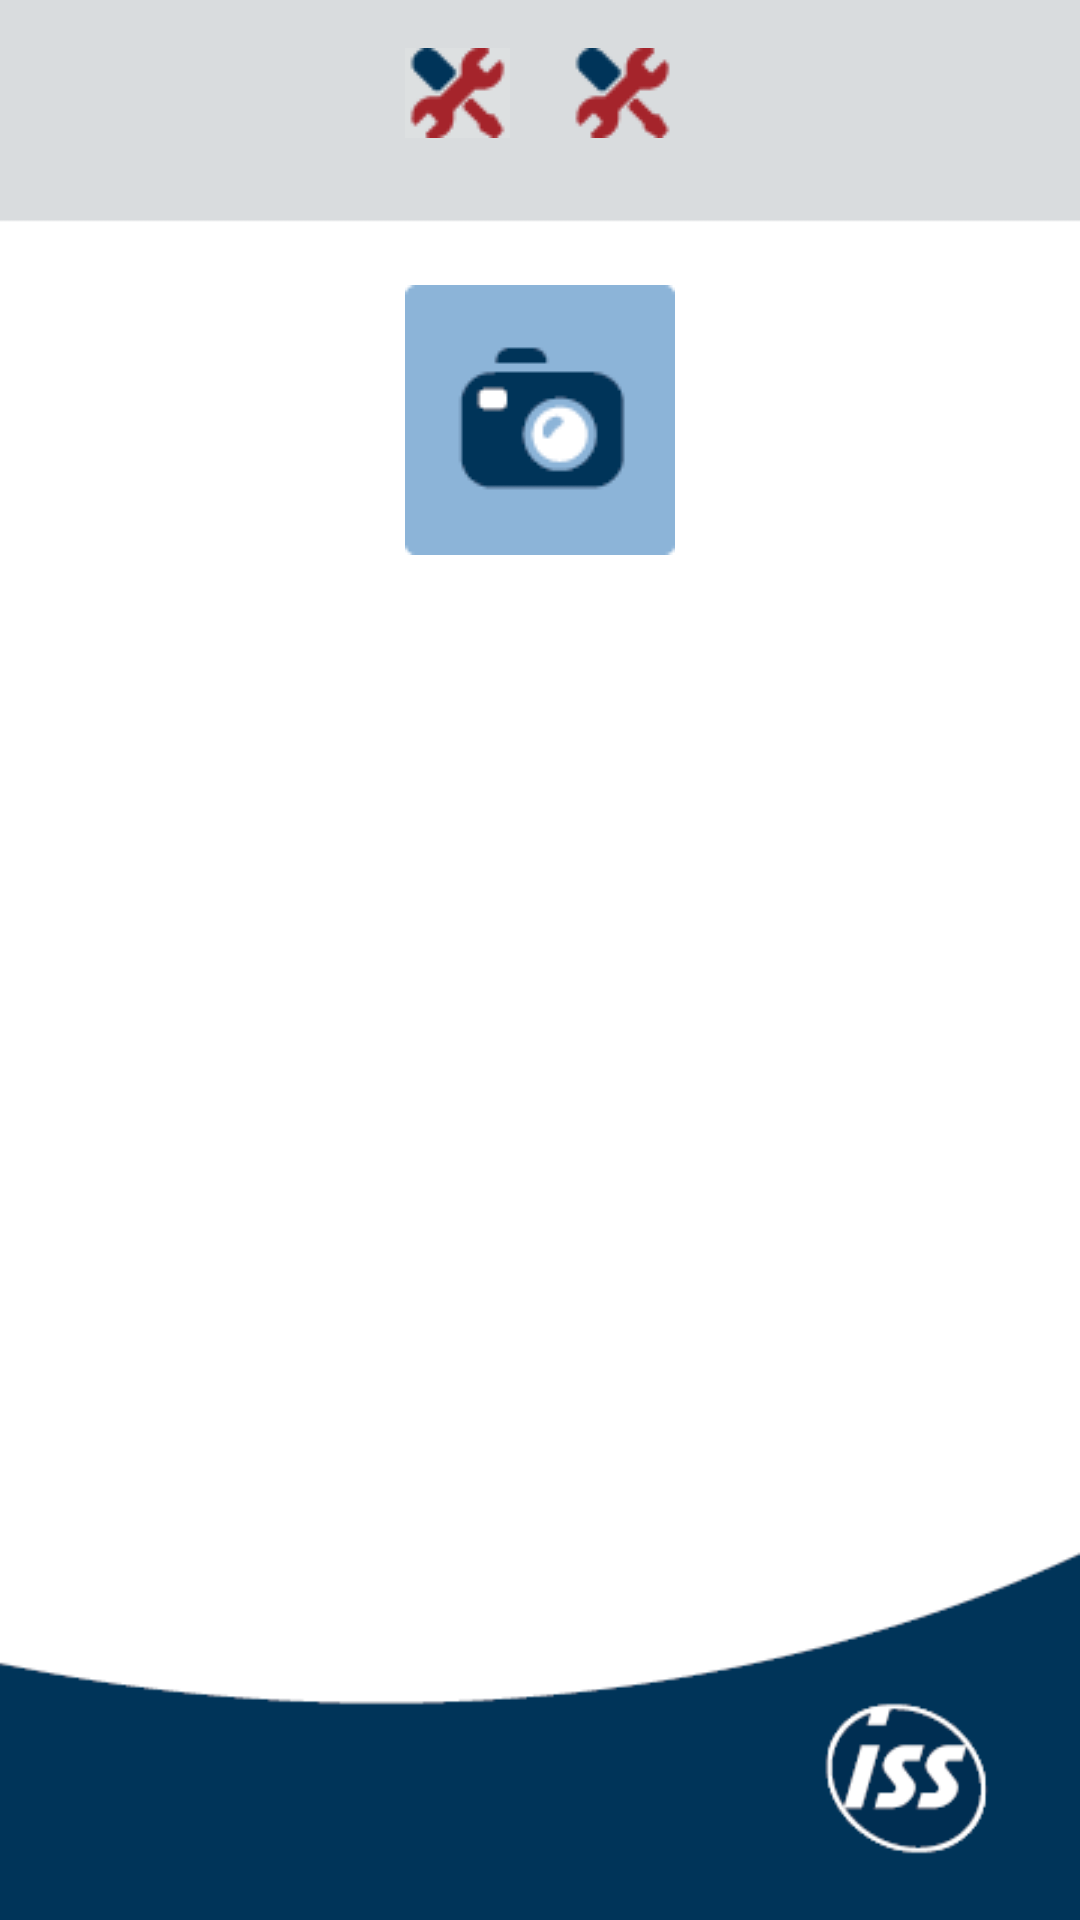

Screen size 1080 × 1920. Icon name, then its box in pixels as [x1=x1, y1=y1, x2=x2, y2=y2]:
foti: [x1=405, y1=285, x2=675, y2=555]
repk: [x1=410, y1=48, x2=505, y2=138], [x1=575, y1=48, x2=670, y2=138]
